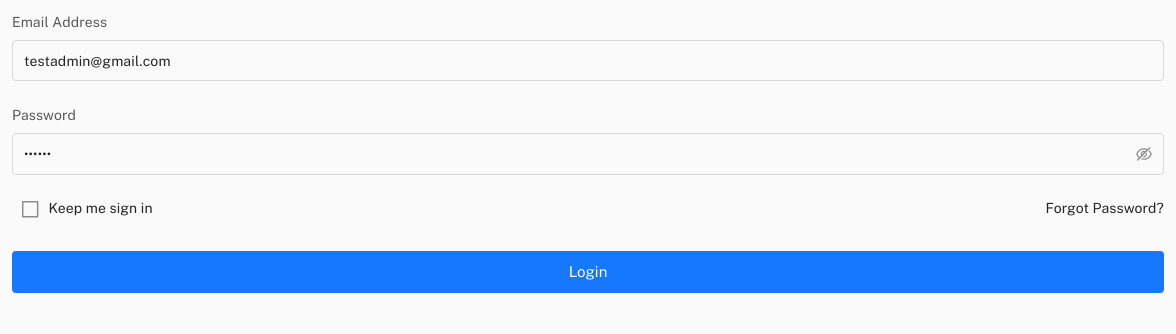
Test: AuthLogin Component › form validations › show error when email input is empty
The image size is (1176, 334).
Step 1. Clear the field with placeholder "Enter email address" → (588, 61), box x1=12 y1=40 x2=1164 y2=81
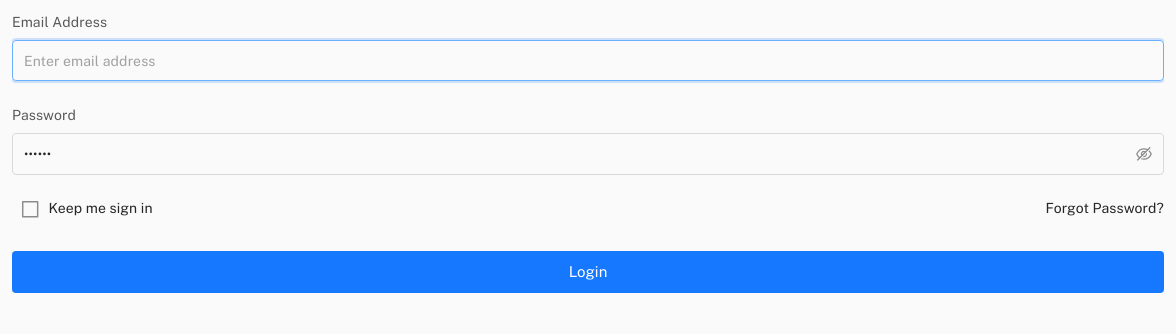
Step 2. Press Enter
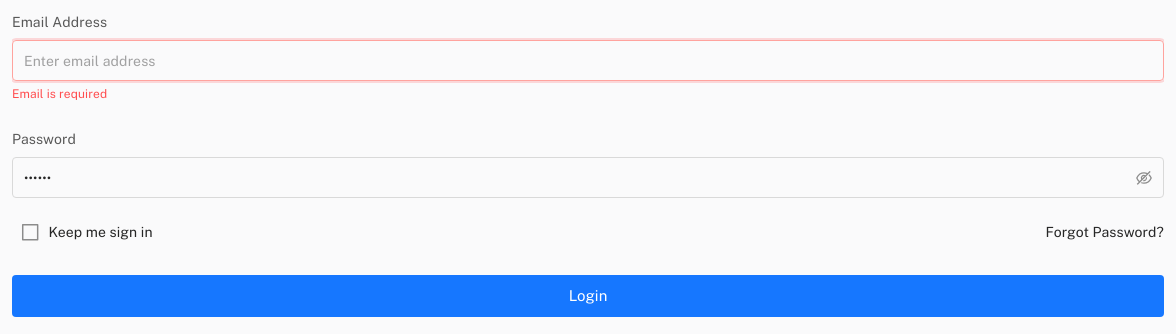
Result: the text "Email is required" is shown at x1=12 y1=87 x2=107 y2=101
